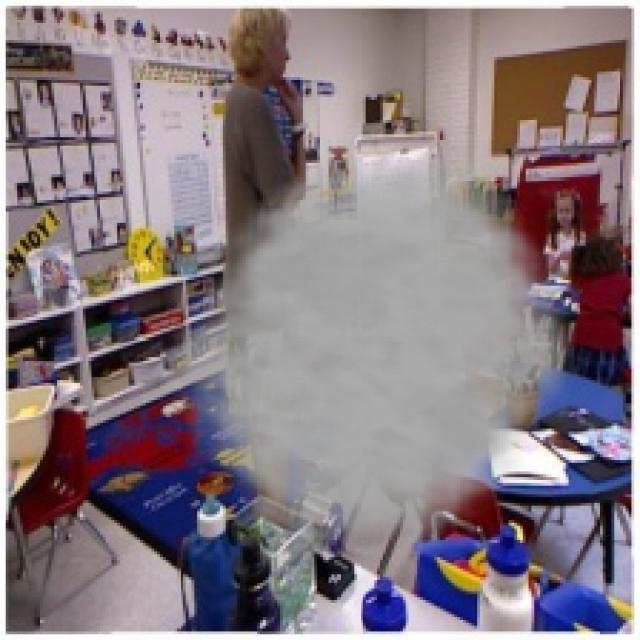Smoke: (160, 137, 586, 554)
